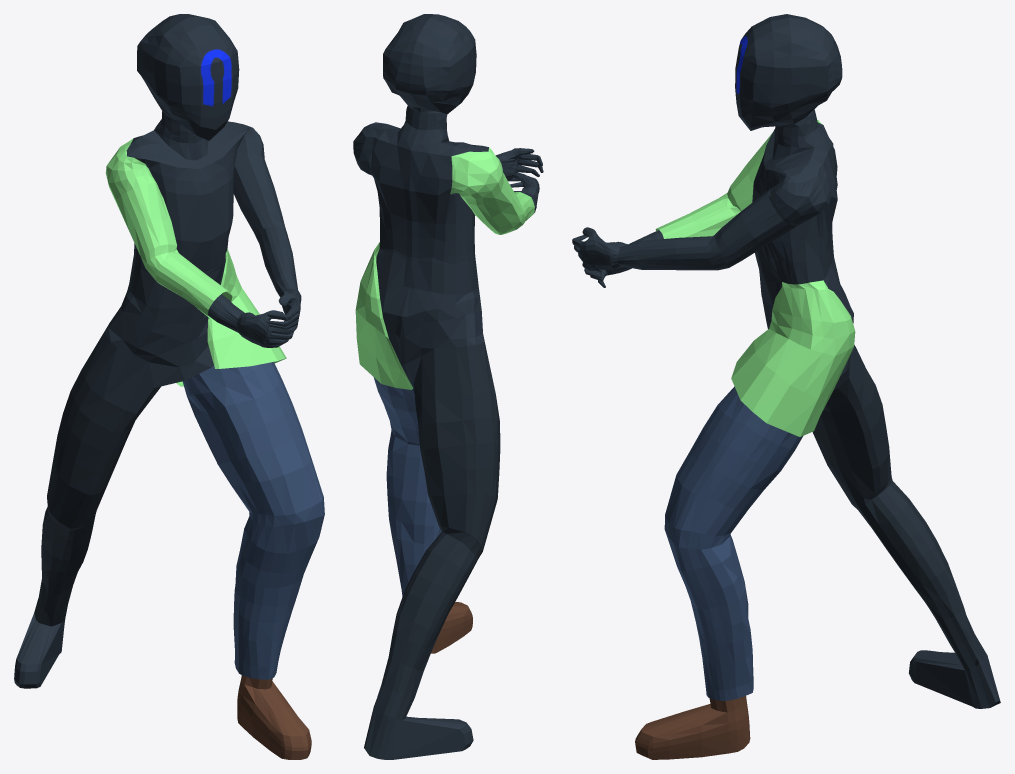
The model's file is Mar_WF_000003.obj.
3 views of the same model, side by side, from view 1: azimuth 30°, elevation 25°; view 2: azimuth 150°, elevation 25°; view 3: azimuth 270°, elevation 25° (orthographic). The views are drawn at different scales.
Visible parts, largest first — view 1: Cube.000_Cube.001; view 2: Cube.000_Cube.001; view 3: Cube.000_Cube.001.
Part boxes in pixels (x1=…): Cube.000_Cube.001: x1=14, y1=14, x2=324, y2=759; Cube.000_Cube.001: x1=353, y1=14, x2=543, y2=759; Cube.000_Cube.001: x1=572, y1=14, x2=1000, y2=759.
Size of the model in its own units: 1.09 by 3.75 by 2.03.
